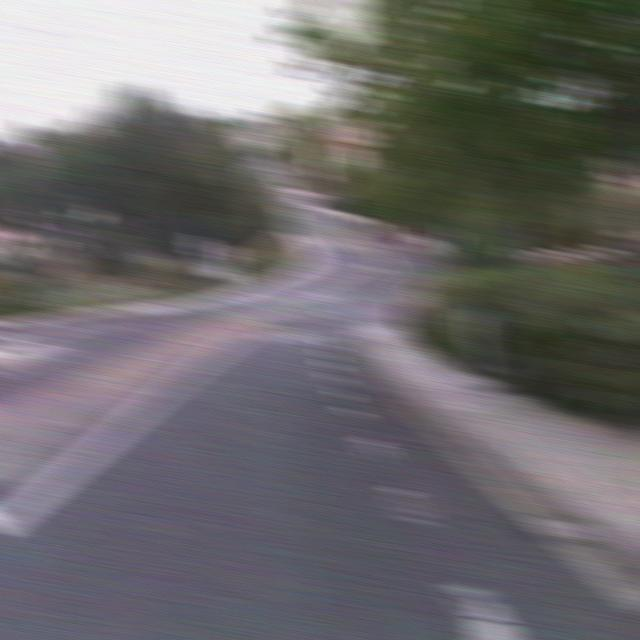stop: (385, 217, 420, 250)
